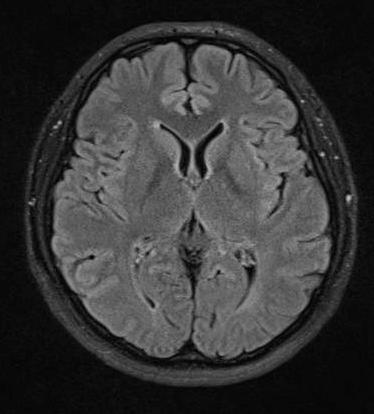Normal_Brain: (1, 1, 374, 414)
